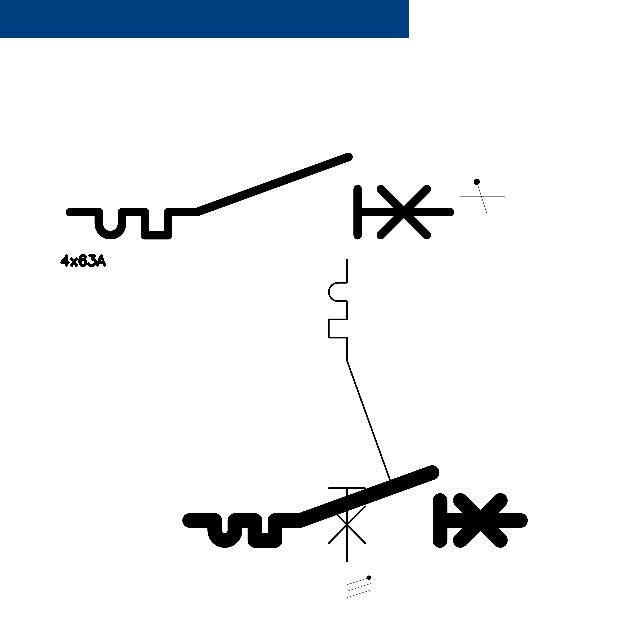interruptor_termomagnetico: (60, 147, 460, 245), (181, 464, 529, 549), (321, 252, 398, 569)
